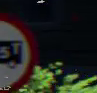Heavy Vehicles: (0, 6, 38, 90)
